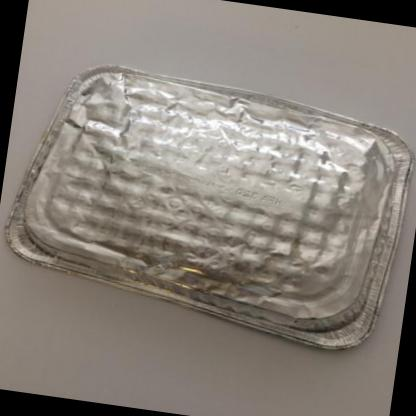Metal: (3, 66, 412, 350)
